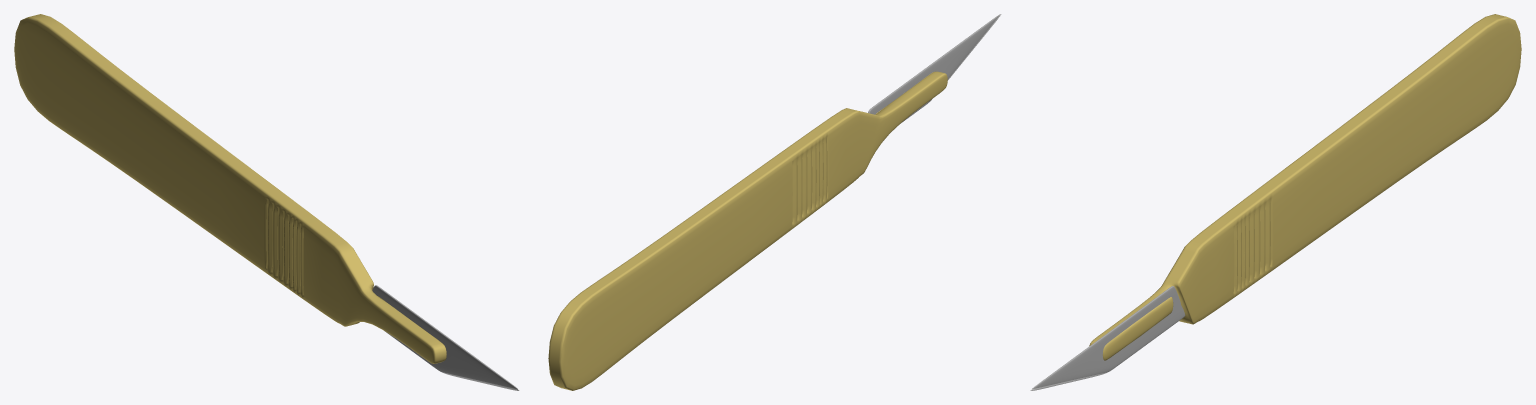
Rendered from scalpel.fbx.
3 renders of one model, left to right at view 1: azimuth 30°, elevation 25°; view 2: azimuth 150°, elevation 25°; view 3: azimuth 330°, elevation 25°, orthographic. The views are drawn at different scales.
Parts seen in each view (by area): view 1: Scalpel_3760.Shape; view 2: Scalpel_3760.Shape; view 3: Scalpel_3760.Shape.
Boxes of the visible parts, bbox=[...] form: Scalpel_3760.Shape: bbox=[14, 14, 519, 390]; Scalpel_3760.Shape: bbox=[548, 14, 1001, 390]; Scalpel_3760.Shape: bbox=[1030, 14, 1521, 390].
Bounding box in the file's own units: 0.296 × 1.58 × 14.95.
2 materials, 1 textured.
